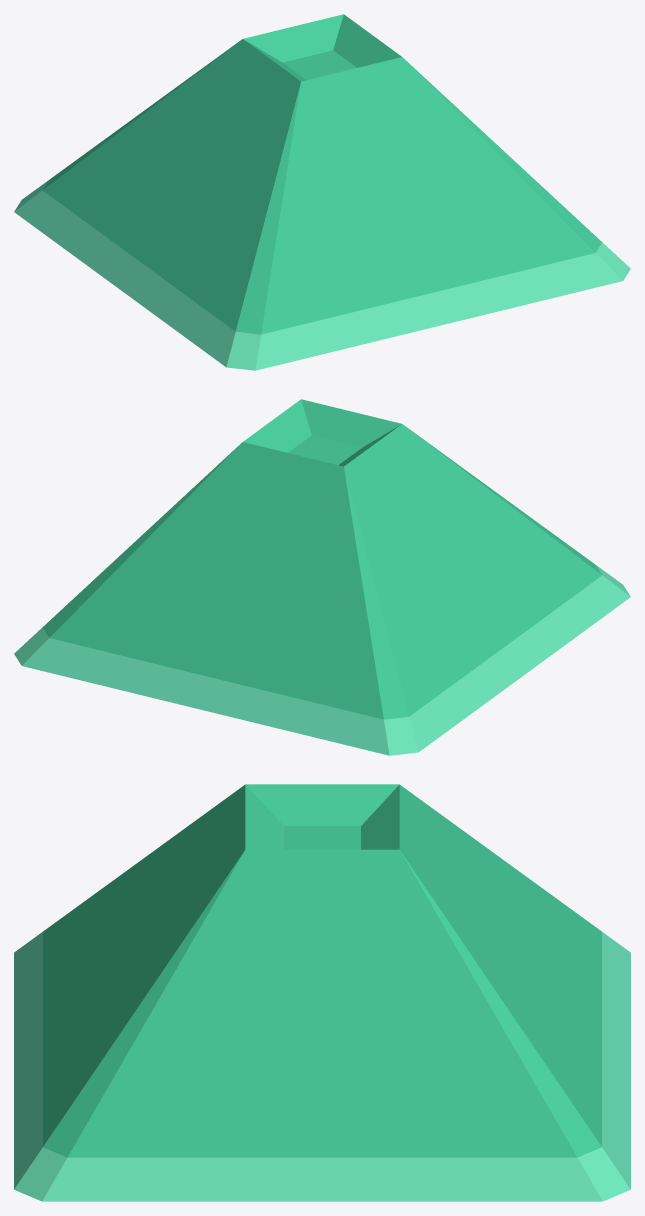
File: roofPoint.dae
The picture shows the model from 3 angles, top to bottom: view 1: azimuth 30°, elevation 25°; view 2: azimuth 150°, elevation 25°; view 3: azimuth 270°, elevation 25°; orthographic projection. The views are drawn at different scales.
Visible parts, largest first — view 1: roofPoint; view 2: roofPoint; view 3: roofPoint.
Part boxes in pixels (left/top/right/bottom): roofPoint: left=14, top=14, right=630, bottom=370; roofPoint: left=14, top=399, right=630, bottom=755; roofPoint: left=14, top=784, right=630, bottom=1201.
Size of the model in its own units: 1.1 by 0.5 by 1.1.
